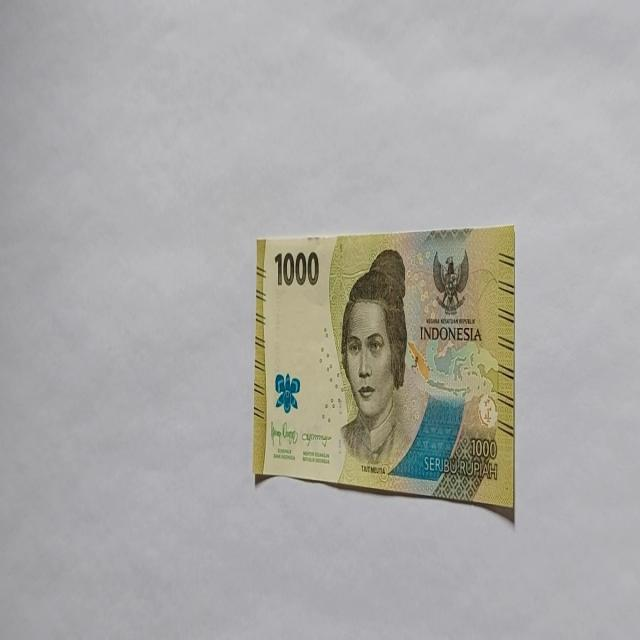seribu rupiah kertas: (252, 225, 515, 518)
